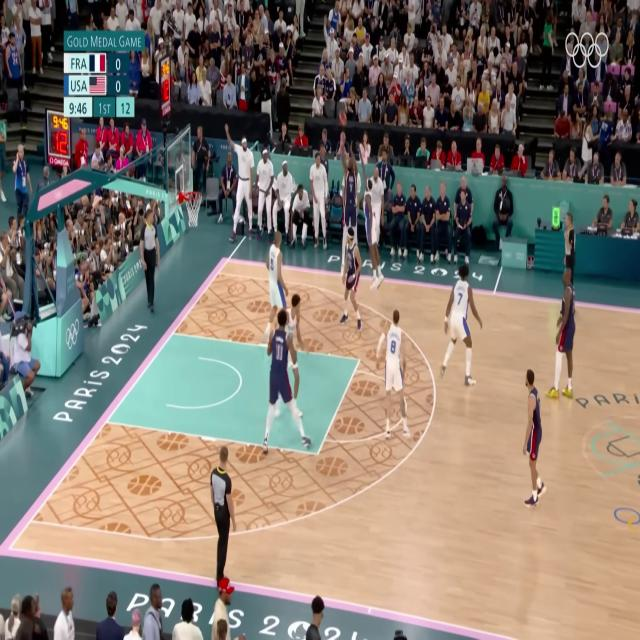ball-handler: (338, 105, 358, 262)
player: (260, 304, 310, 463), (368, 306, 415, 437), (542, 260, 583, 405), (436, 264, 483, 389), (512, 366, 551, 512), (260, 229, 292, 328), (360, 171, 382, 280), (277, 294, 308, 366), (345, 226, 361, 324)
